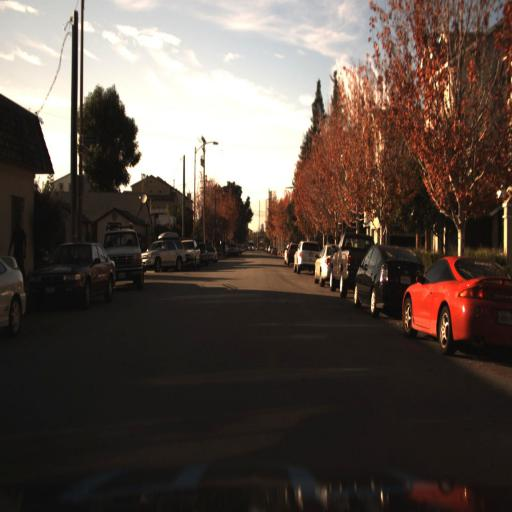car: (401, 255, 512, 356), (22, 239, 115, 314), (350, 242, 426, 320), (101, 222, 144, 292), (325, 231, 364, 298), (139, 228, 185, 275), (140, 230, 188, 267), (292, 236, 322, 276), (311, 242, 330, 291), (182, 234, 203, 270)
